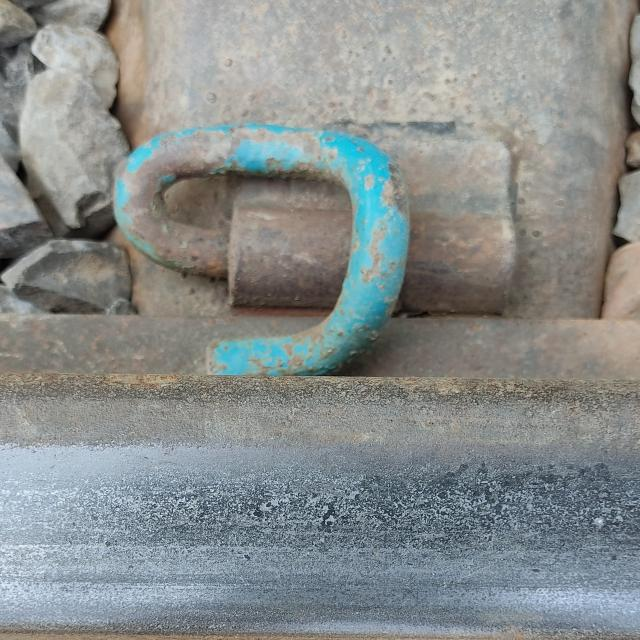track_bolt: (105, 116, 422, 380)
